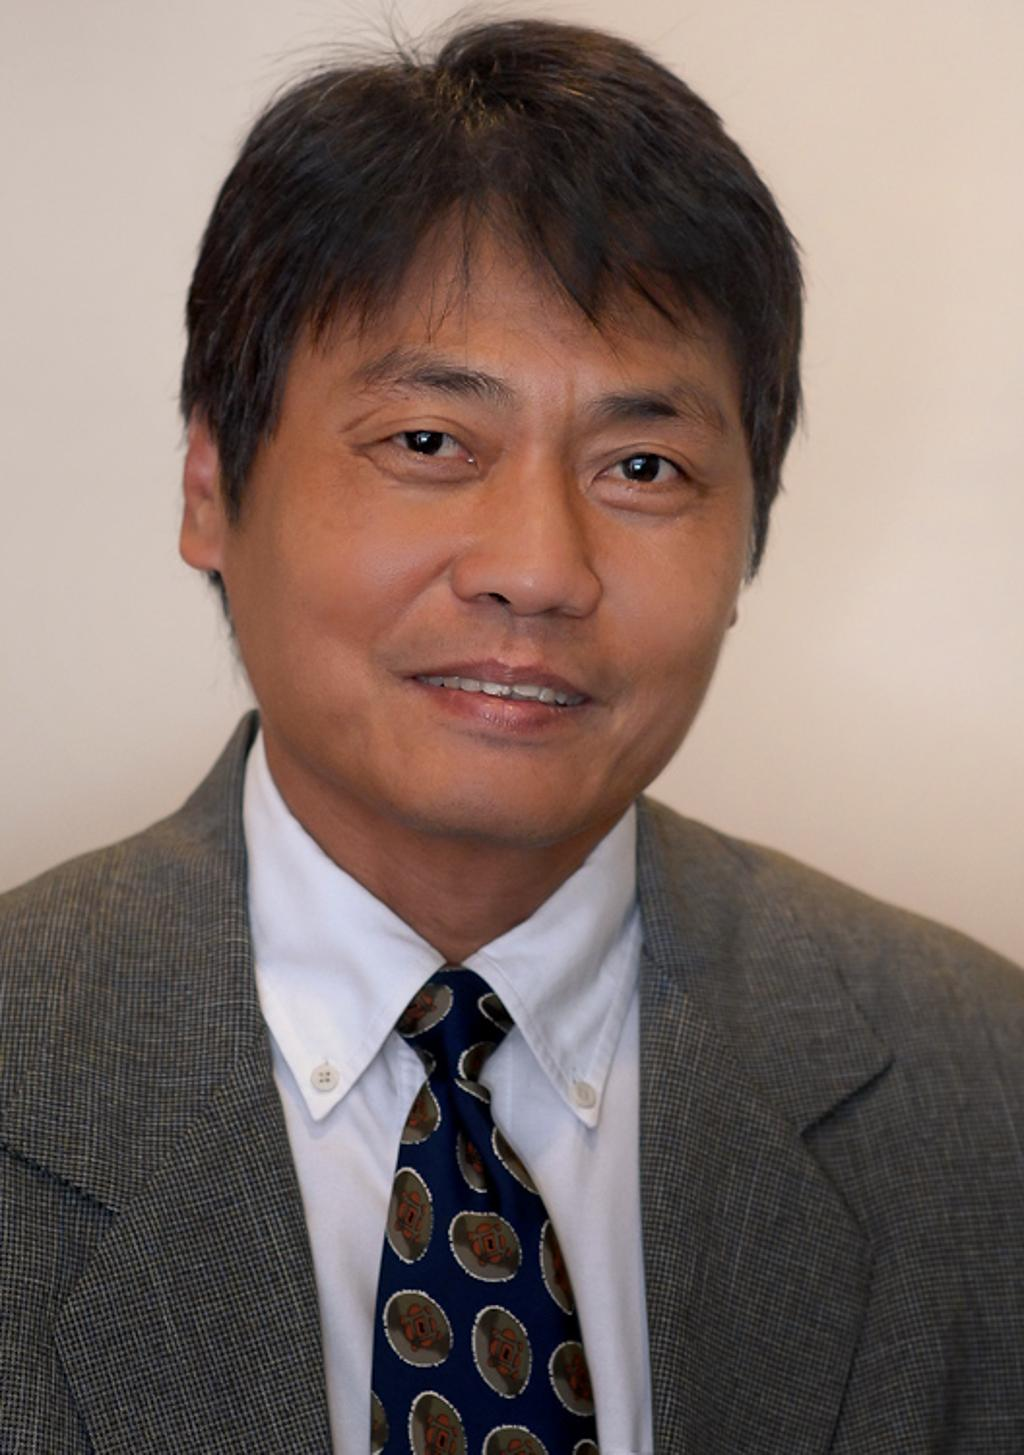face: (230, 199, 759, 830)
